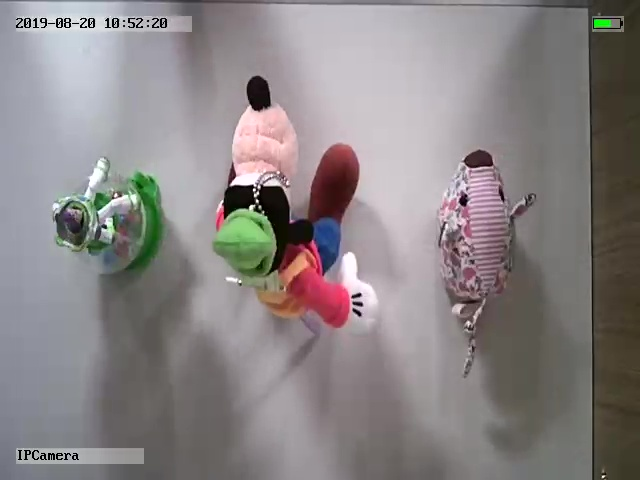buzz: (49, 154, 164, 277)
goofy: (212, 77, 380, 337)
pig: (435, 149, 538, 379)
